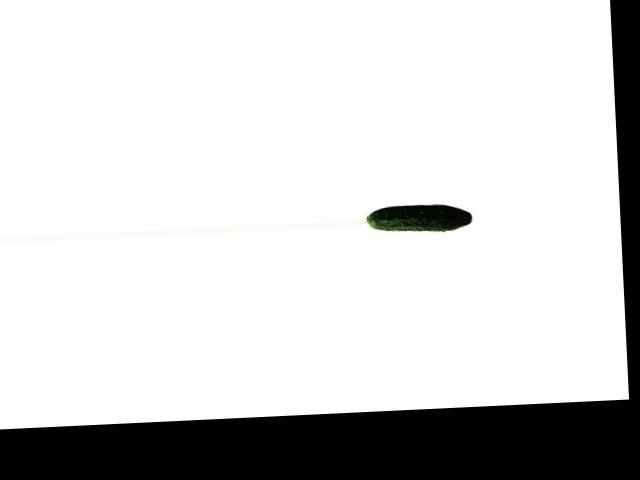cucumber: (366, 202, 473, 234)
